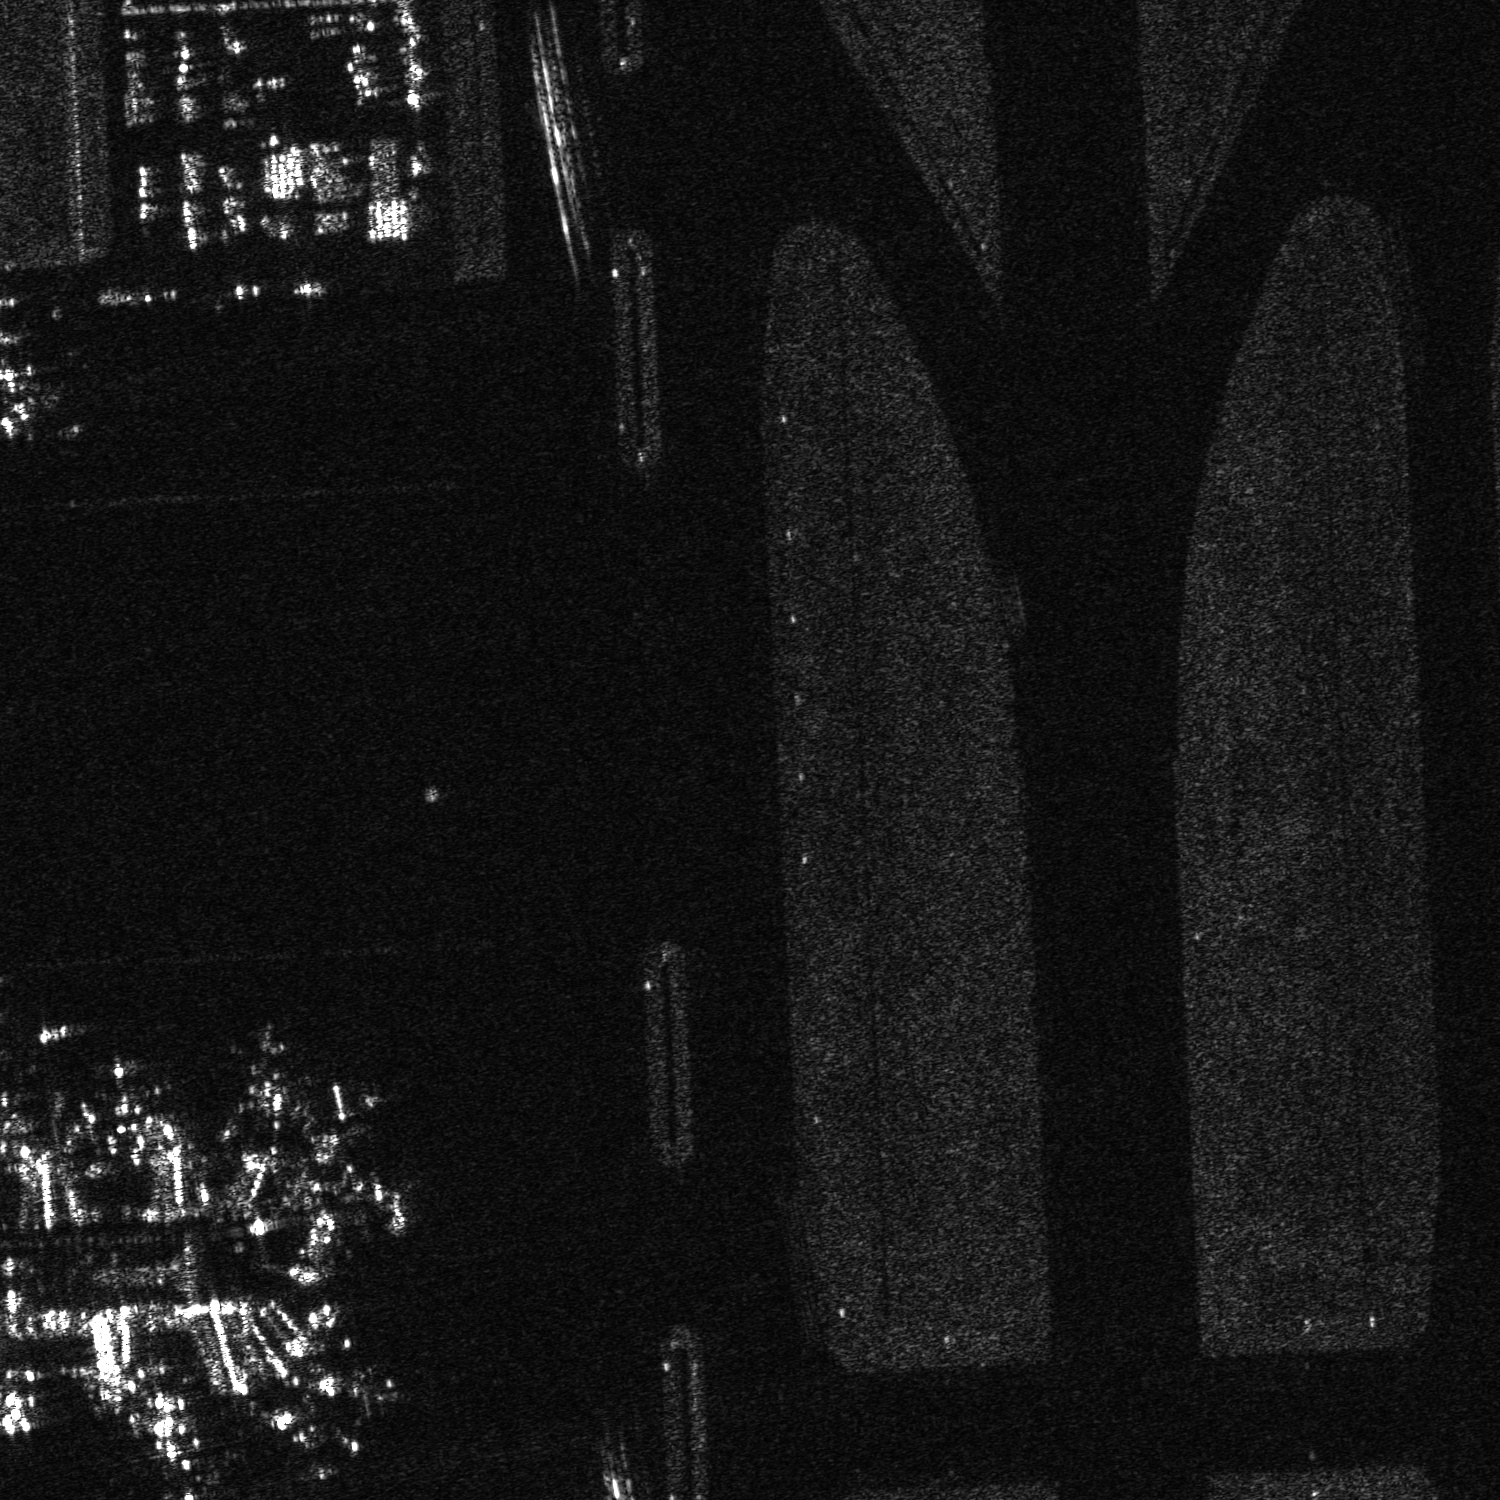A320/321: (129, 1416, 223, 1499), (231, 1019, 299, 1126), (309, 1361, 402, 1422), (95, 1054, 158, 1140)
Boeing737: (262, 1401, 376, 1464)
